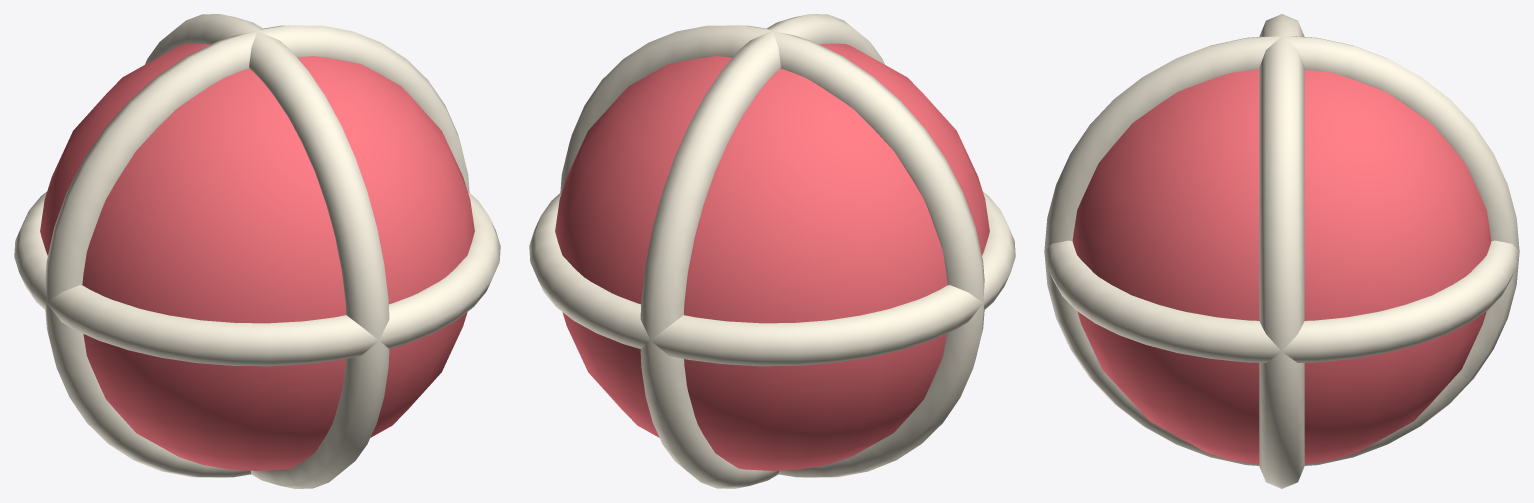
The model's file is ClassicCollarMoving_Premium.fbx.
3 views of the same model, side by side, from view 1: azimuth 30°, elevation 25°; view 2: azimuth 150°, elevation 25°; view 3: azimuth 270°, elevation 25° (orthographic). The views are drawn at different scales.
Visible parts, largest first — view 1: ClassicCollar_Moving; view 2: ClassicCollar_Moving; view 3: ClassicCollar_Moving.
Boxes of the visible parts, <box> form: ClassicCollar_Moving: <box>14,14,500,488</box>; ClassicCollar_Moving: <box>529,14,1015,488</box>; ClassicCollar_Moving: <box>1044,14,1519,488</box>.
Size of the model in its own units: 0.0803 by 0.0803 by 0.0803.
